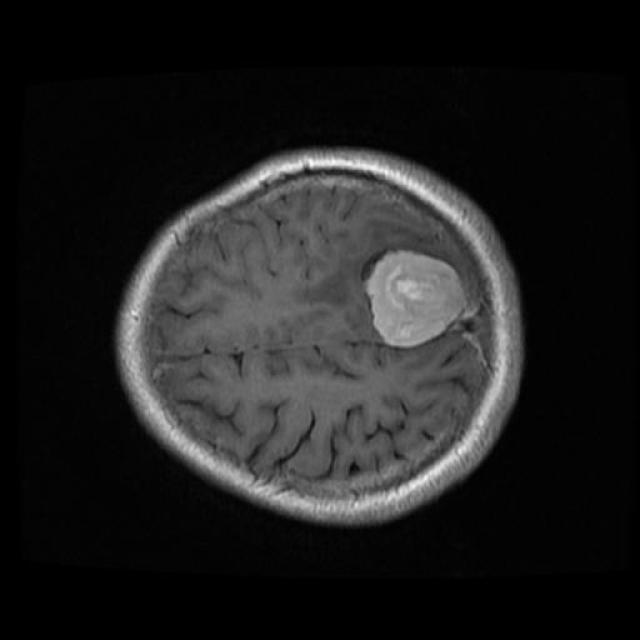Meningioma: (366, 251, 467, 347)
